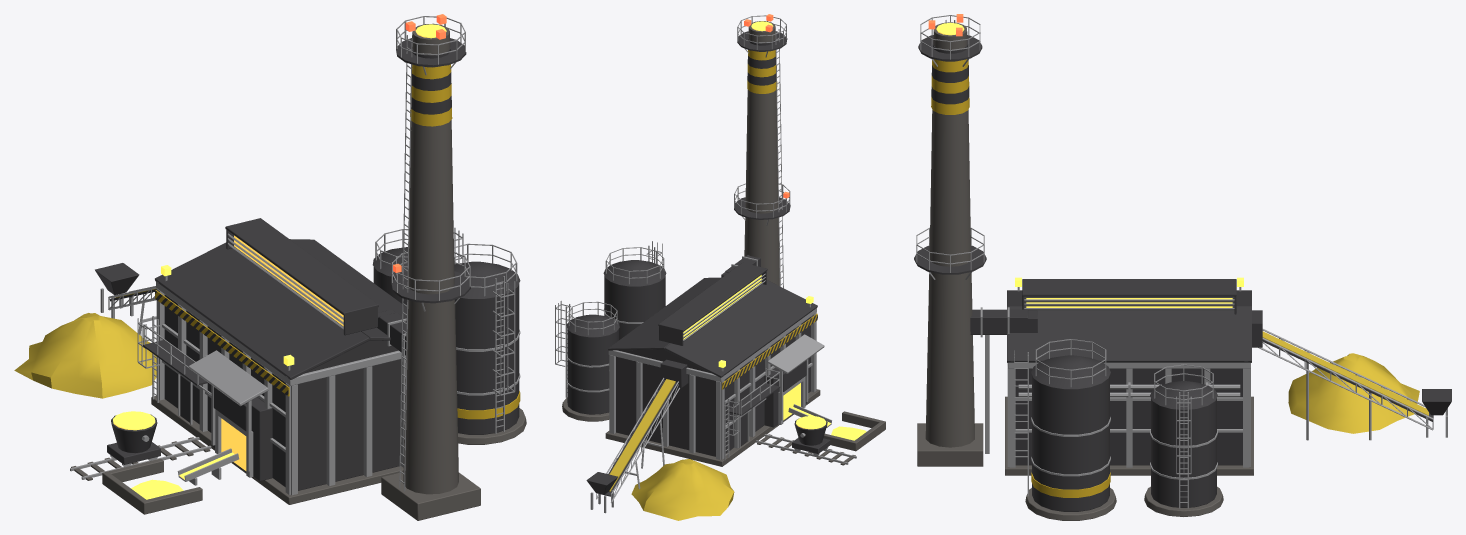
The model's file is smelter.glb.
3 renders of one model, left to right at view 1: azimuth 30°, elevation 25°; view 2: azimuth 150°, elevation 25°; view 3: azimuth 270°, elevation 25°, orthographic. The views are drawn at different scales.
Visible parts, largest first — view 1: smelter; view 2: smelter; view 3: smelter.
Part boxes in pixels (x1,y1,x2,y2): smelter: (14,14,526,520); smelter: (555,14,885,520); smelter: (914,14,1451,520).
Size of the model in its own units: 21.34 by 24.47 by 27.63.
